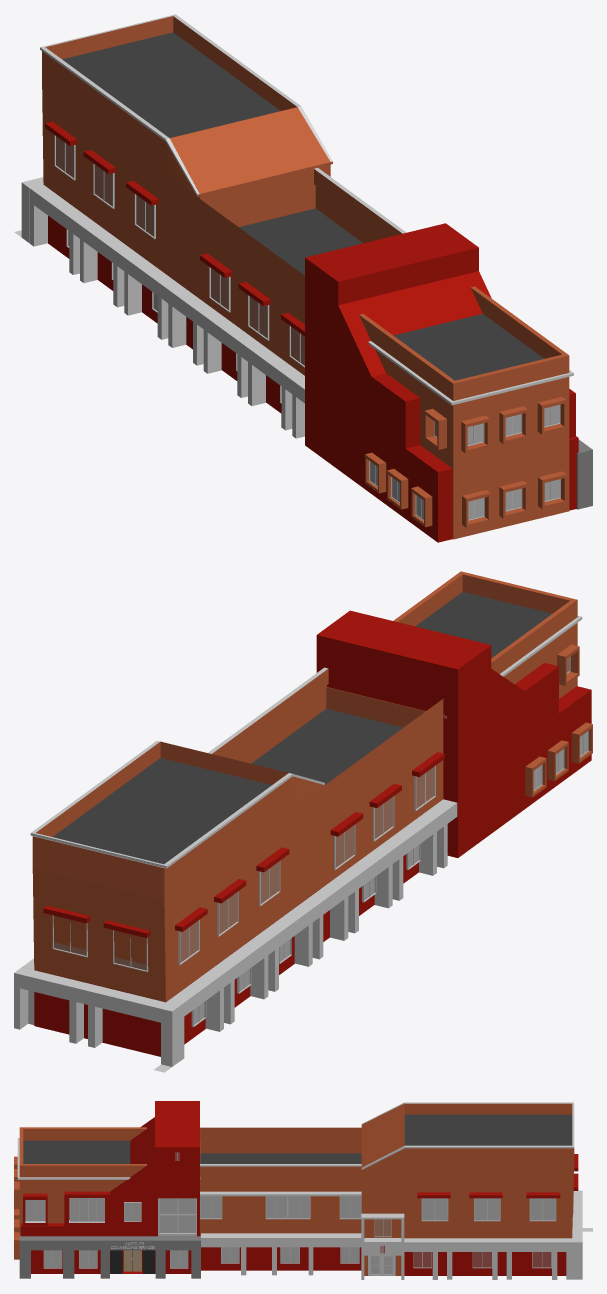
3 renders of one model, top to bottom at view 1: azimuth 30°, elevation 25°; view 2: azimuth 150°, elevation 25°; view 3: azimuth 270°, elevation 25°, orthographic. The views are drawn at different scales.
Visible parts, largest first — view 1: Building; view 2: Building; view 3: Building.
Part boxes in pixels (x1=…): Building: x1=14, y1=14, x2=592, y2=542; Building: x1=14, y1=571, x2=592, y2=1072; Building: x1=14, y1=1101, x2=592, y2=1279.
Size of the model in its own units: 8.56 by 9.51 by 38.43.
